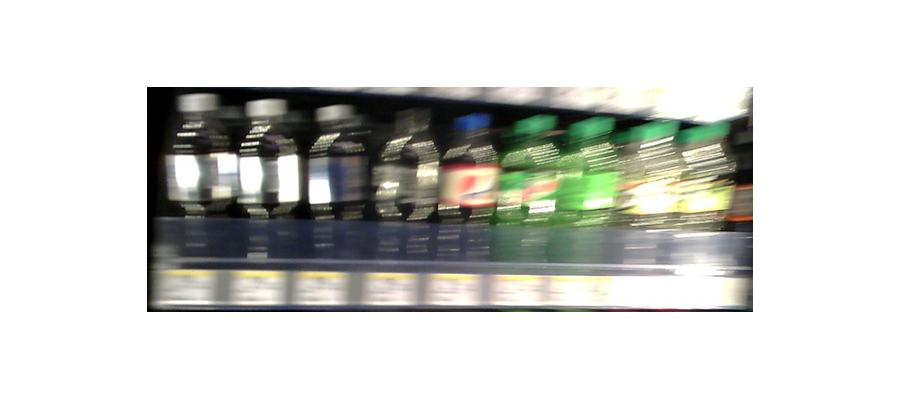bottle: (564, 114, 622, 268), (498, 130, 561, 270), (321, 127, 366, 265), (371, 135, 438, 226), (447, 127, 498, 241)
